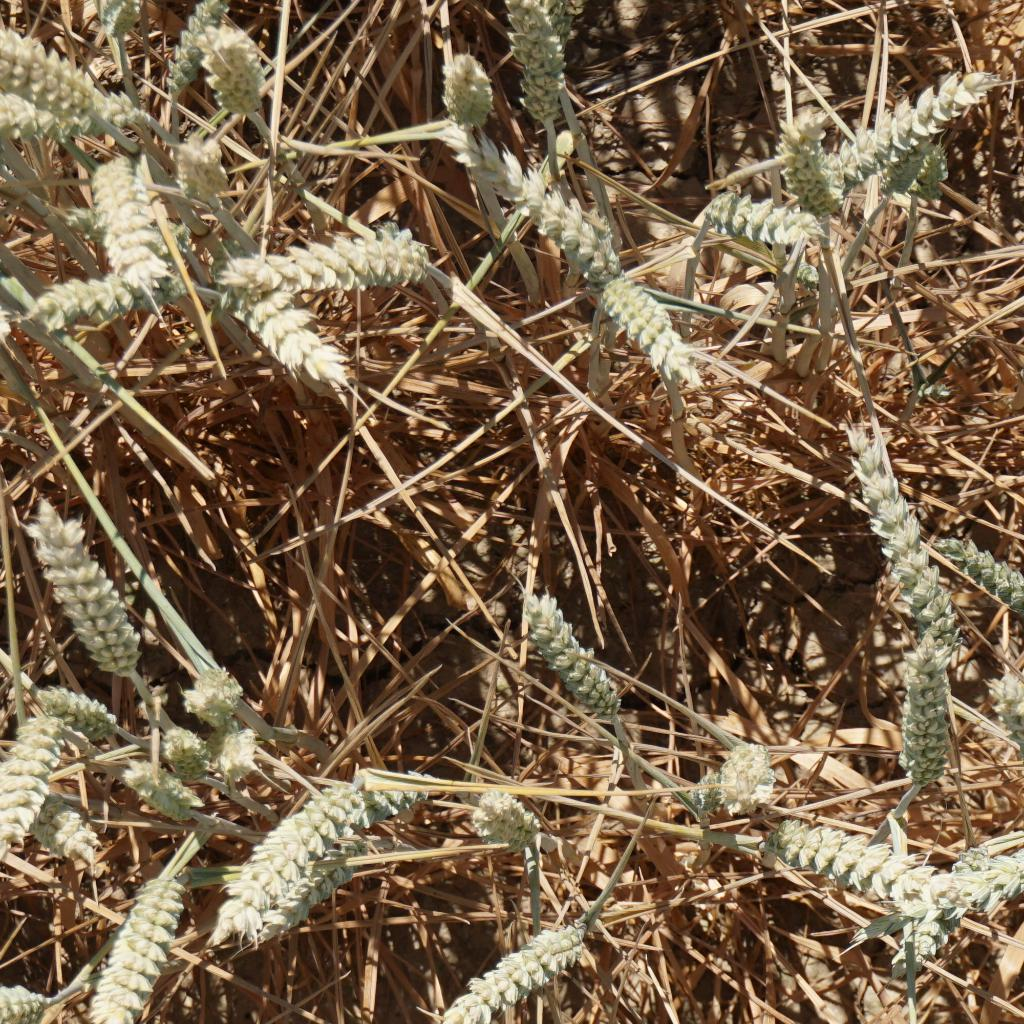0-0: (456, 128, 622, 279), (29, 486, 153, 683), (242, 797, 388, 951), (852, 417, 954, 620), (216, 772, 328, 939), (96, 870, 202, 1024), (826, 62, 1012, 147), (218, 230, 442, 299), (519, 582, 630, 718), (446, 915, 584, 1024), (896, 835, 994, 987), (785, 819, 923, 919), (685, 181, 825, 277), (0, 13, 116, 128), (82, 149, 173, 285), (610, 265, 698, 391), (889, 637, 958, 797), (939, 525, 1024, 644), (933, 828, 1024, 923), (27, 267, 139, 344), (0, 707, 58, 850), (35, 665, 132, 742), (253, 303, 348, 381), (202, 31, 273, 134), (777, 110, 844, 218), (705, 748, 793, 825), (151, 0, 212, 110), (878, 130, 966, 204), (29, 785, 102, 870), (514, 0, 570, 110), (474, 781, 551, 852), (123, 761, 200, 828), (366, 756, 437, 826), (433, 55, 488, 143), (175, 130, 234, 210), (183, 663, 249, 722), (996, 663, 1024, 795), (0, 84, 58, 134), (216, 732, 265, 787), (159, 722, 206, 779), (0, 970, 47, 1024), (785, 254, 826, 294), (105, 0, 145, 40), (0, 285, 15, 354)
